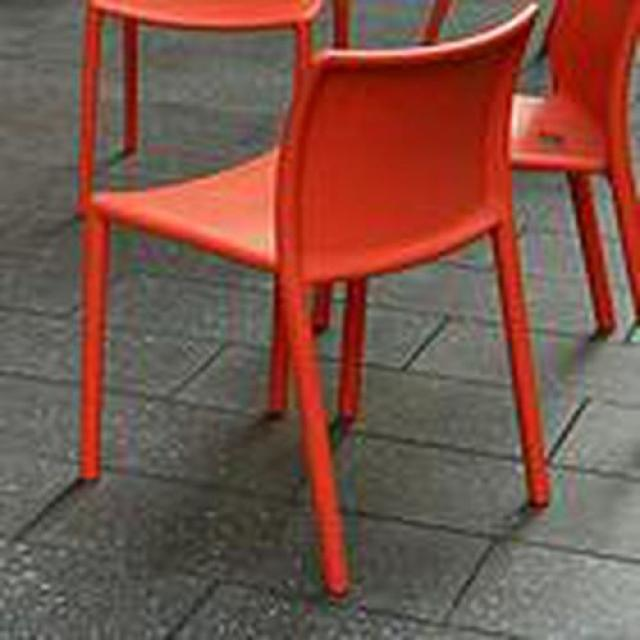chair: (91, 5, 549, 600)
